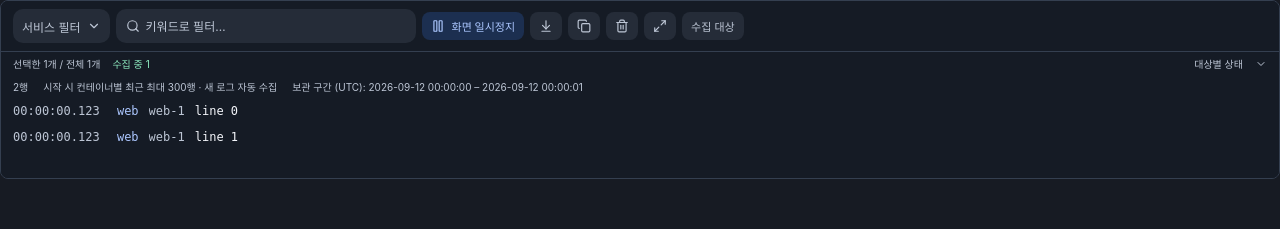
Test: combined logs › sends literal keyword filters and freezes the view without stopping collection
Type "Error[DB]" into the search field named "로그 키워드 검색" at (276, 26), box [146, 9, 406, 43]
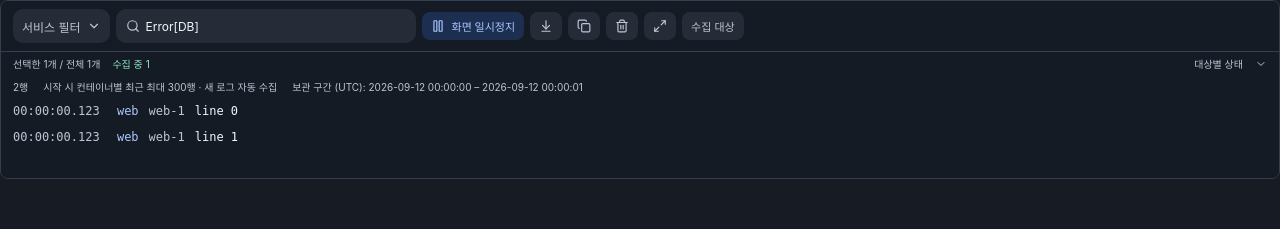
Click the button "화면 일시정지" at (473, 26), box [422, 12, 524, 40]
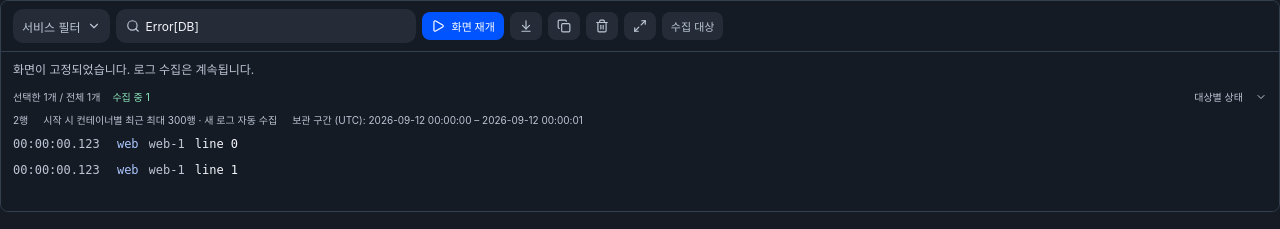
Expected: the text "화면이 고정되었습니다. 로그 수집은 계속됩니다." is shown, [13, 62, 254, 77]
